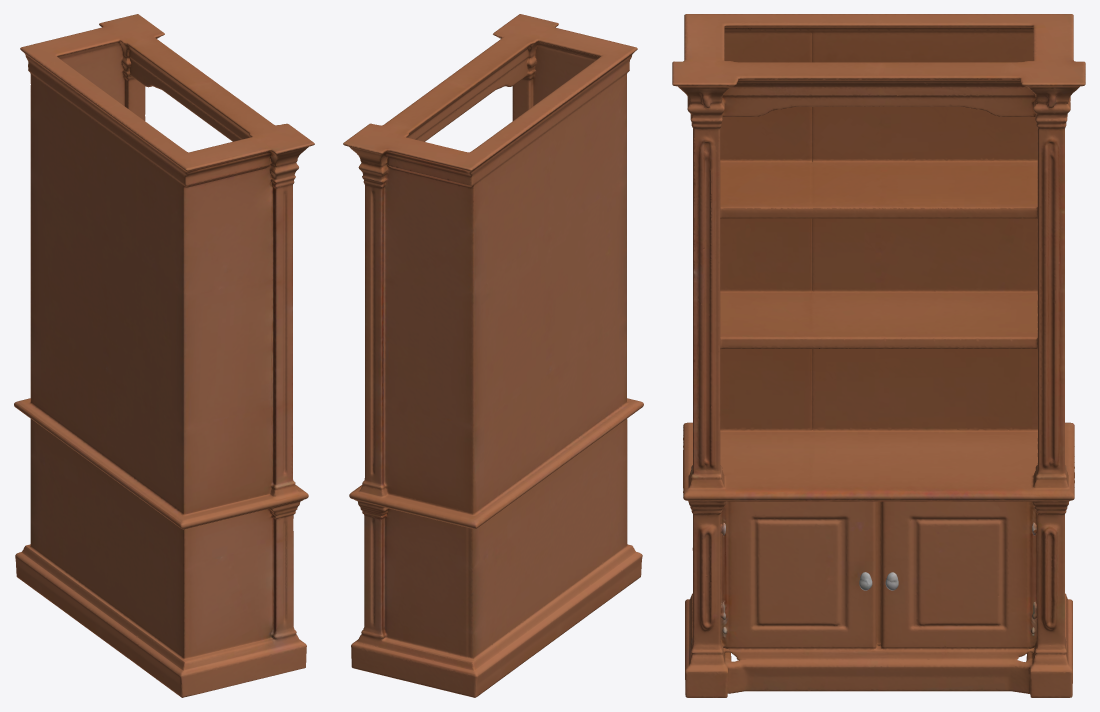
File: detailed_realistic_model_antique_01.glb
The picture shows the model from 3 angles, left to right: view 1: azimuth 30°, elevation 25°; view 2: azimuth 150°, elevation 25°; view 3: azimuth 270°, elevation 25°; orthographic projection. The views are drawn at different scales.
Visible parts, largest first — view 1: tripo_node_08455e1f-61ff-484f-b06d-4f8d0c7425f6; view 2: tripo_node_08455e1f-61ff-484f-b06d-4f8d0c7425f6; view 3: tripo_node_08455e1f-61ff-484f-b06d-4f8d0c7425f6.
Part boxes in pixels (bbox=[...]): tripo_node_08455e1f-61ff-484f-b06d-4f8d0c7425f6: bbox=[14, 14, 314, 697]; tripo_node_08455e1f-61ff-484f-b06d-4f8d0c7425f6: bbox=[343, 14, 643, 697]; tripo_node_08455e1f-61ff-484f-b06d-4f8d0c7425f6: bbox=[672, 14, 1085, 697].
Bounding box in the file's own units: 0.2567 × 1 × 0.6078.
Materials: 1 (1 with a texture image).
